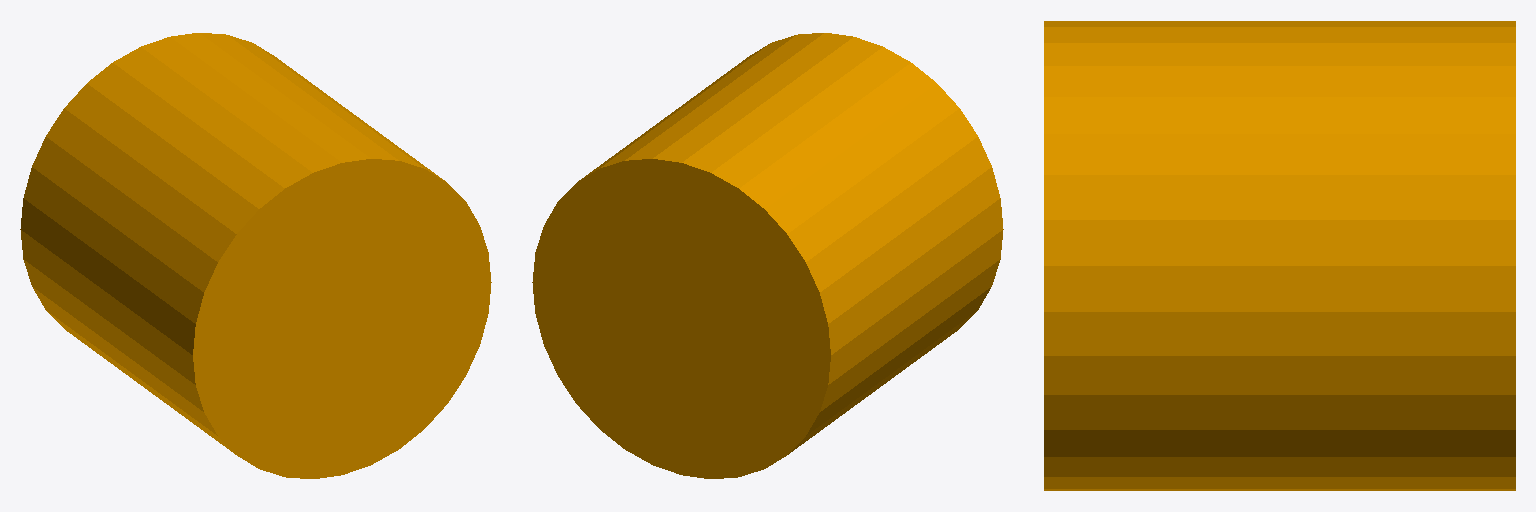
The robot description file, URDF, robot "simple_object":
<robot name="simple_object">
  <link name="my_object">
    <inertial>
      <origin xyz="0 0 0" />
      <mass value="1.0" />
      <inertia  ixx="0.00016" ixy="0.0"  ixz="0.0"  iyy="0.00016"  iyz="0.0"  izz="0.00016" />
    </inertial>
    <visual>
      <origin xyz="0 0 0" rpy="1.570796327 0 0"/>
      <geometry>
        <cylinder length="0.04" radius="0.02"/>
      </geometry>
    </visual>
    <collision>
      <origin xyz="0 0 0" rpy="1.570796327 0 0"/>
      <geometry>
        <cylinder length="0.04" radius="0.02"/>
      </geometry>
    </collision>
  </link>
  <gazebo reference="my_object">
    <material>Gazebo/Blue</material>
  </gazebo>
</robot>

--- What the picture shows (computed from the rendered views, not written in the file) ---
The picture shows the robot from 3 angles, left to right: view 1: azimuth 30°, elevation 25°; view 2: azimuth 150°, elevation 25°; view 3: azimuth 270°, elevation 25°; orthographic projection.
Robot: simple_object — 1 links, 0 joints (none); root link my_object; default pose: every joint at zero.
Visible links, largest first — view 1: my_object; view 2: my_object; view 3: my_object.
Boxes of the visible links, box(x1,y1,x2,y2) form: my_object: box(20, 33, 491, 478); my_object: box(532, 33, 1003, 478); my_object: box(1044, 21, 1515, 490).
Bounding box of the posed robot: 0.04 × 0.04 × 0.04 m (x, y, z).
Geometry: primitives only (box / cylinder / sphere), no mesh files.